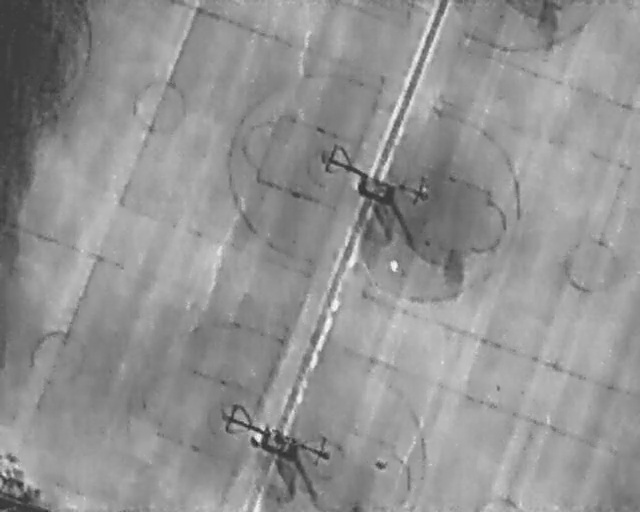Person: (390, 256, 398, 272)
